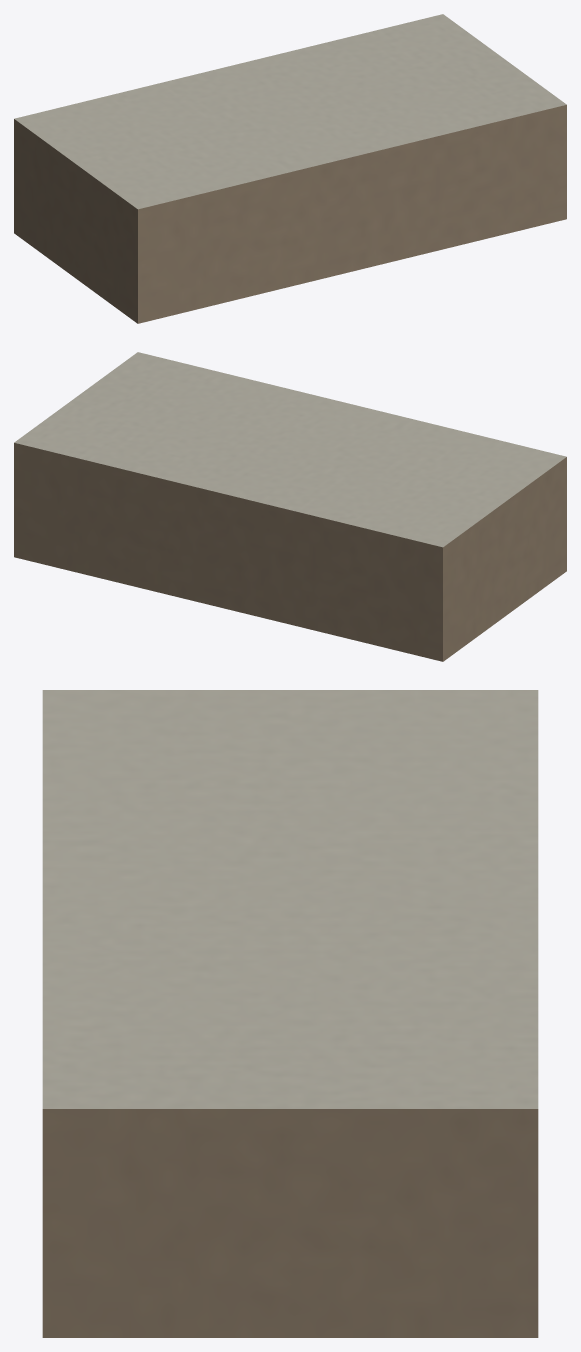
Rendered from set_roof_outside_b07.fbx.
3 views of the same model, one above another, from view 1: azimuth 30°, elevation 25°; view 2: azimuth 150°, elevation 25°; view 3: azimuth 270°, elevation 25° (orthographic). The views are drawn at different scales.
Parts seen in each view (by area): view 1: set_roof_outside_b07; view 2: set_roof_outside_b07; view 3: set_roof_outside_b07.
Boxes of the visible parts, <box> form: set_roof_outside_b07: <box>14,14,566,323</box>; set_roof_outside_b07: <box>14,352,566,661</box>; set_roof_outside_b07: <box>42,690,538,1337</box>.
Bounding box in the file's own units: 200 × 51 × 100.
